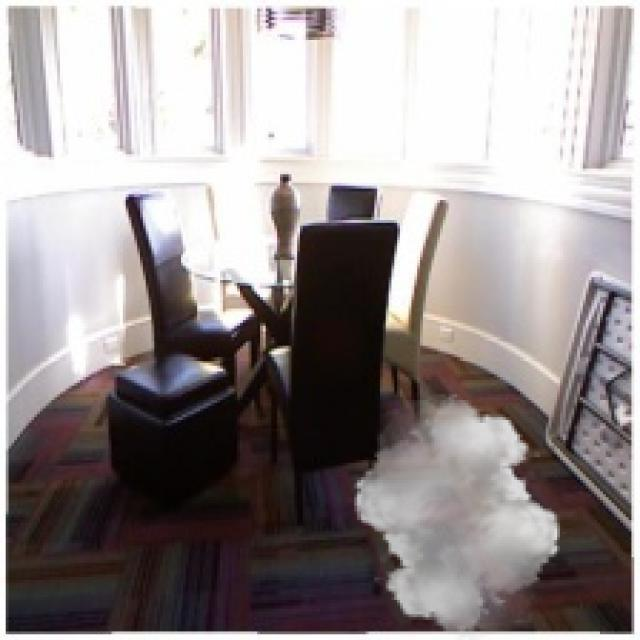Smoke: (346, 394, 572, 637)
